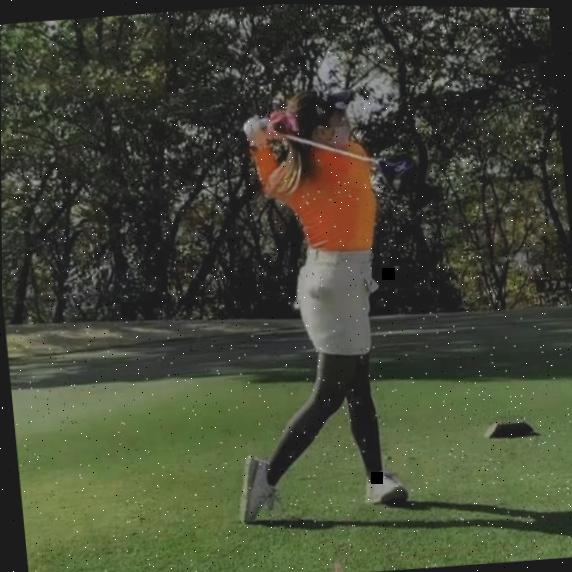ClubHead: (375, 151, 421, 191)
